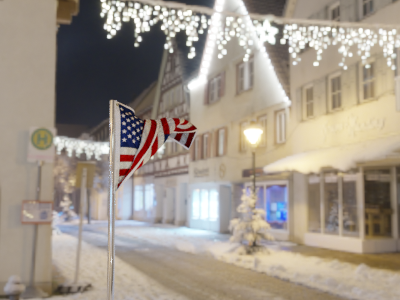America flag: (111, 98, 200, 192)
